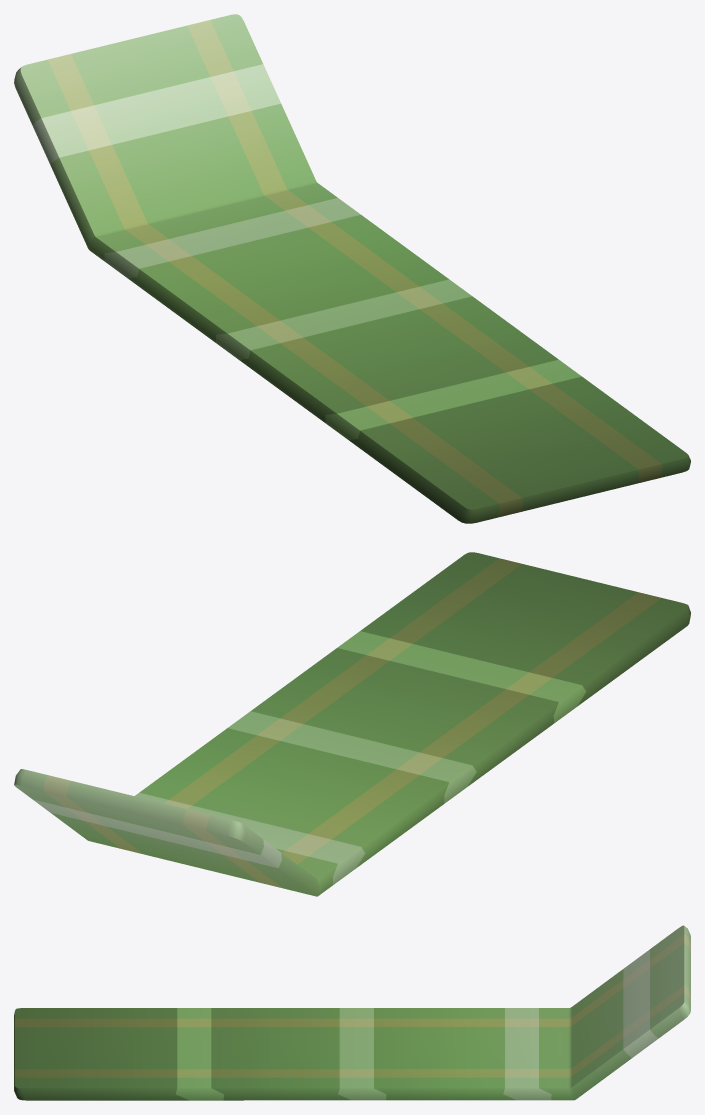
Rendered from SunLounger_Mattress_Cheess_A.fbx.
The picture shows the model from 3 angles, top to bottom: view 1: azimuth 30°, elevation 25°; view 2: azimuth 150°, elevation 25°; view 3: azimuth 270°, elevation 25°; orthographic projection. The views are drawn at different scales.
Visible parts, largest first — view 1: SunLounger_Mattress_Cheess_A; view 2: SunLounger_Mattress_Cheess_A; view 3: SunLounger_Mattress_Cheess_A.
Part boxes in pixels (x1,y1,x2,y2): SunLounger_Mattress_Cheess_A: (14, 14, 690, 523); SunLounger_Mattress_Cheess_A: (14, 552, 690, 896); SunLounger_Mattress_Cheess_A: (14, 925, 690, 1100).
Size of the model in its own units: 45.43 by 24.42 by 157.
